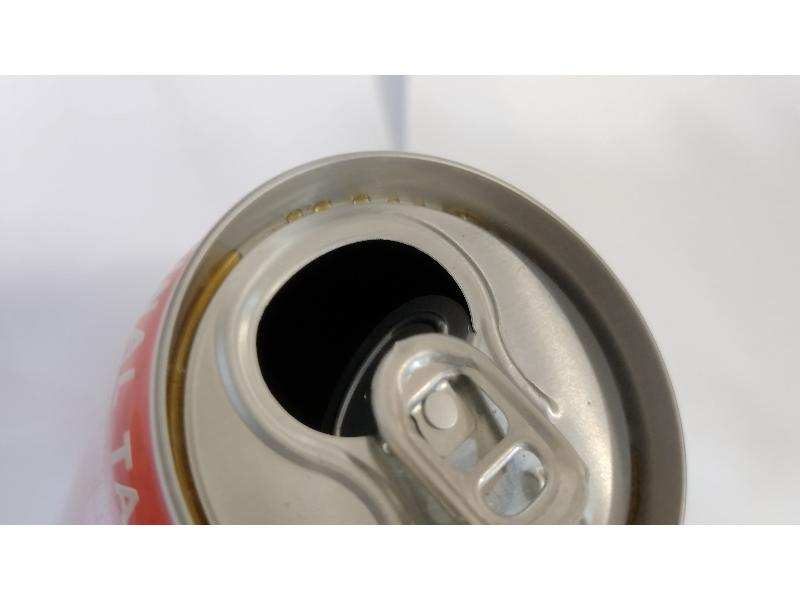can: (79, 148, 696, 524)
